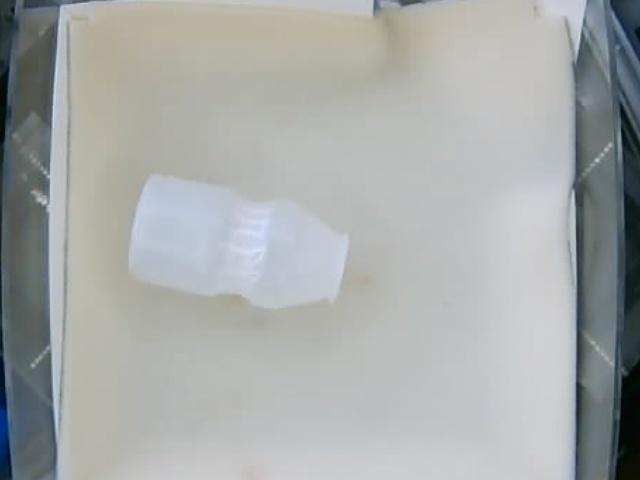Bottle: (132, 171, 346, 311)
